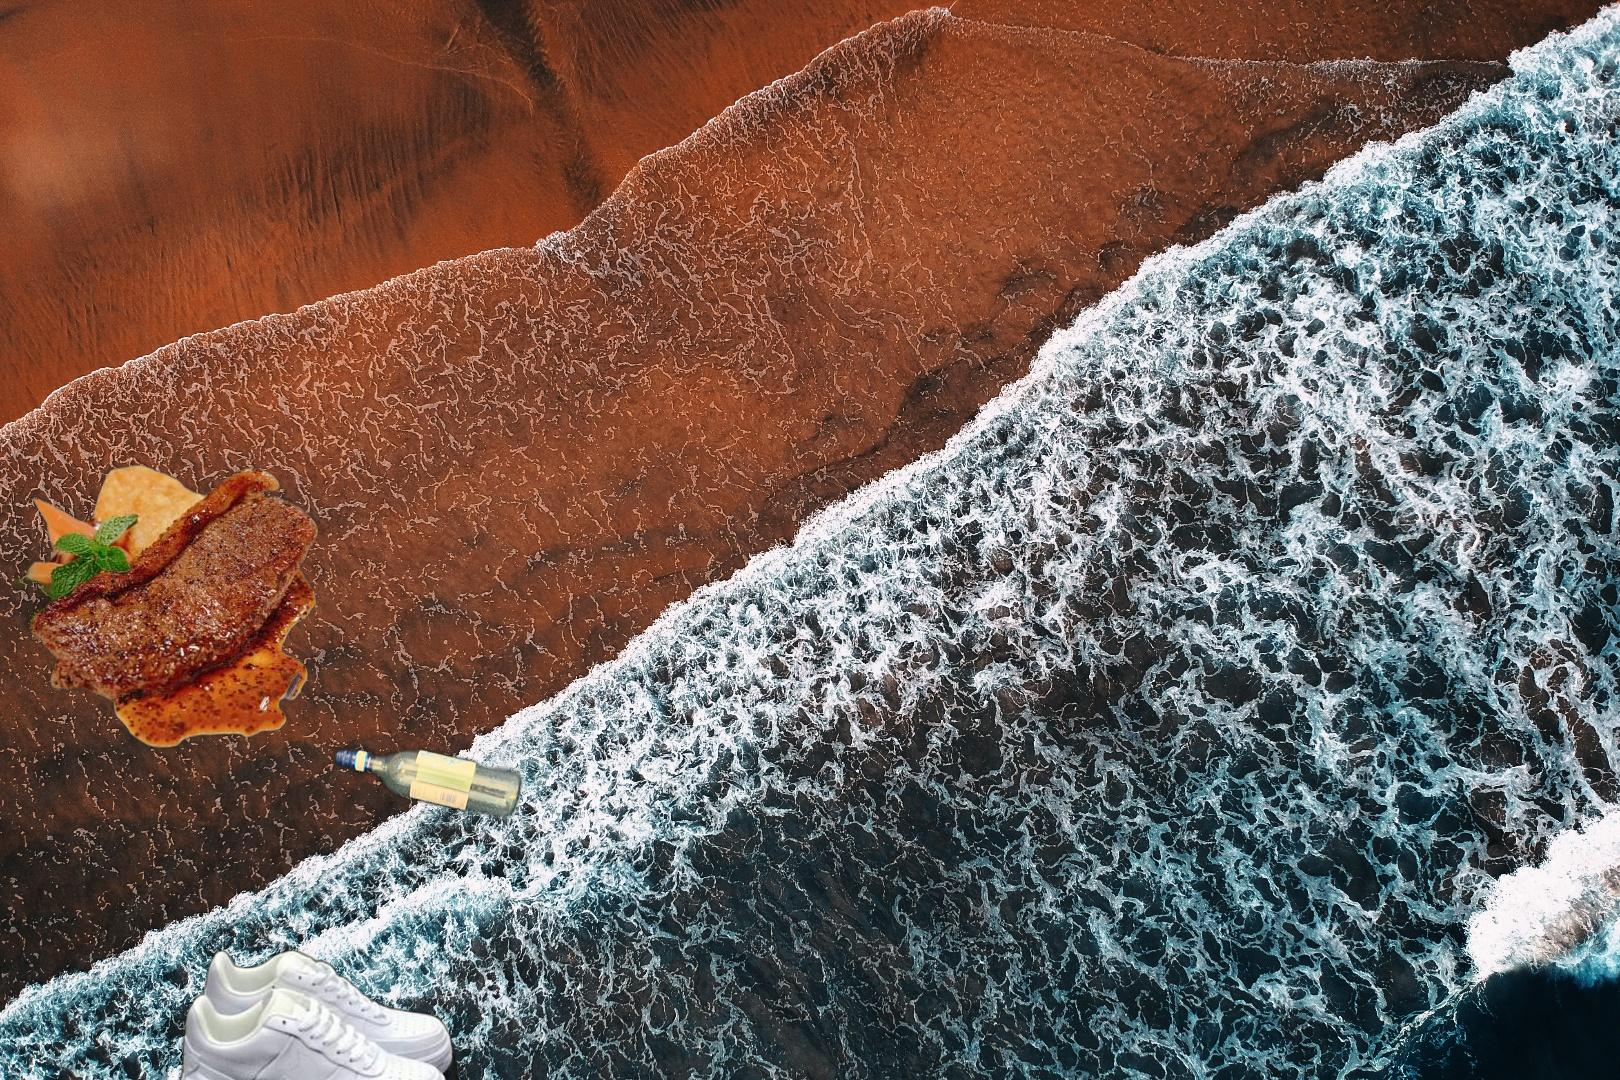biological: (14, 460, 322, 752)
glass: (330, 742, 527, 823)
shoes: (158, 947, 474, 1080)
